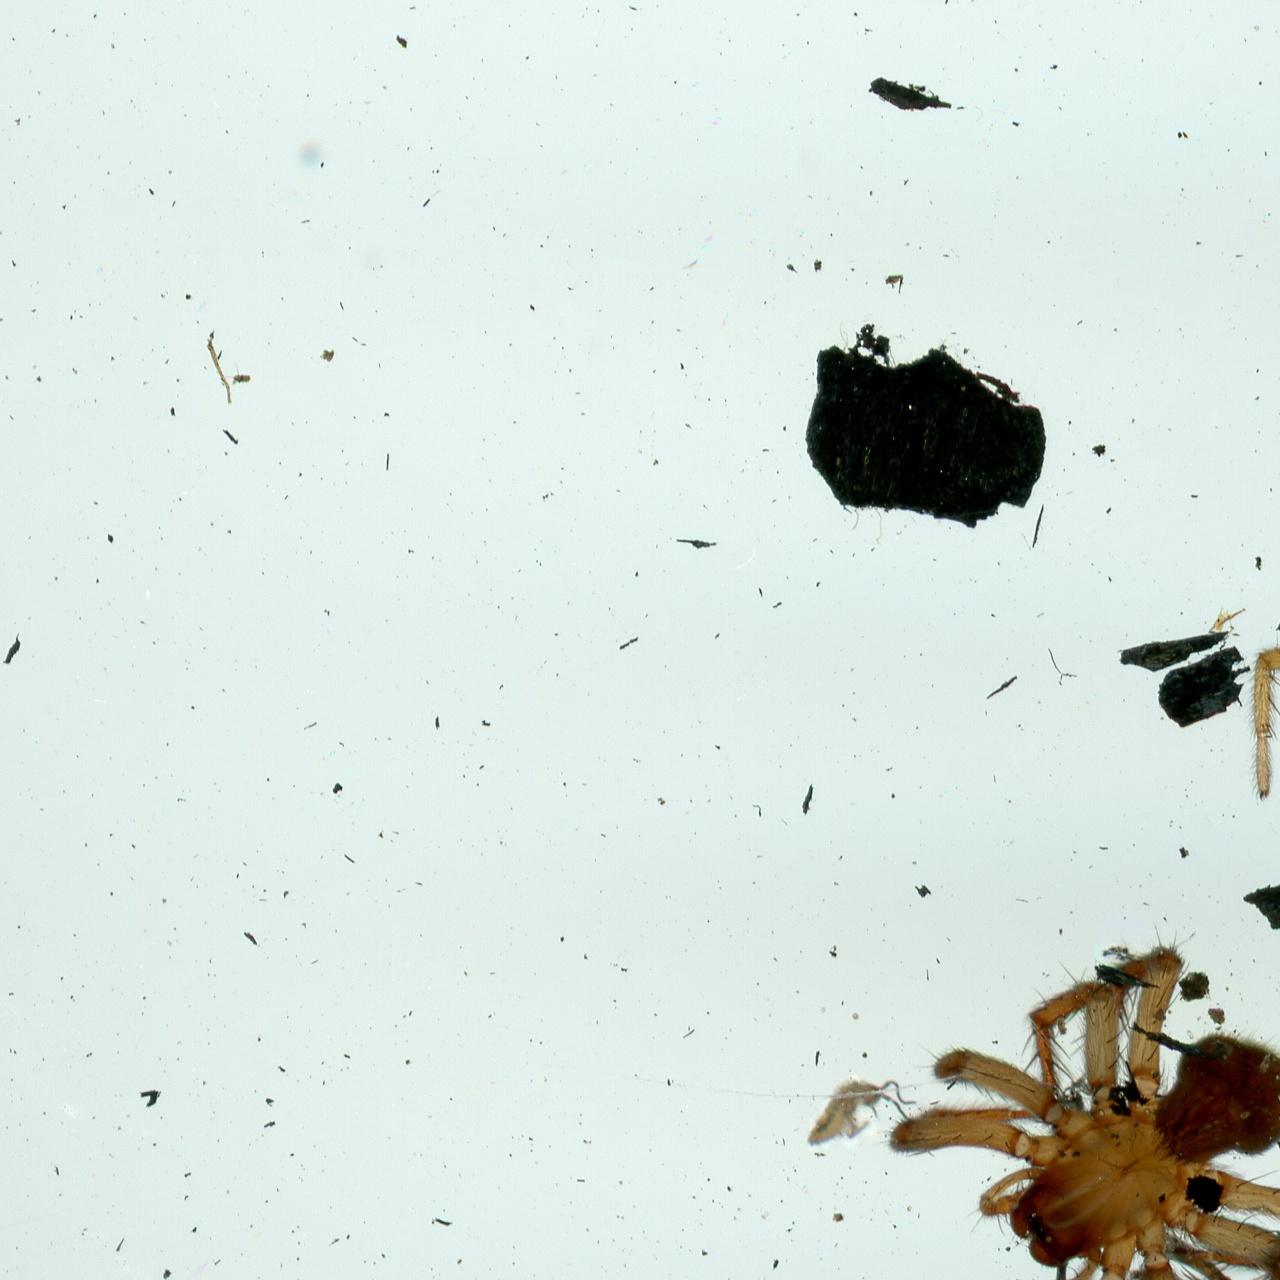arthropod: (872, 908, 1280, 1280), (801, 1075, 919, 1152)
